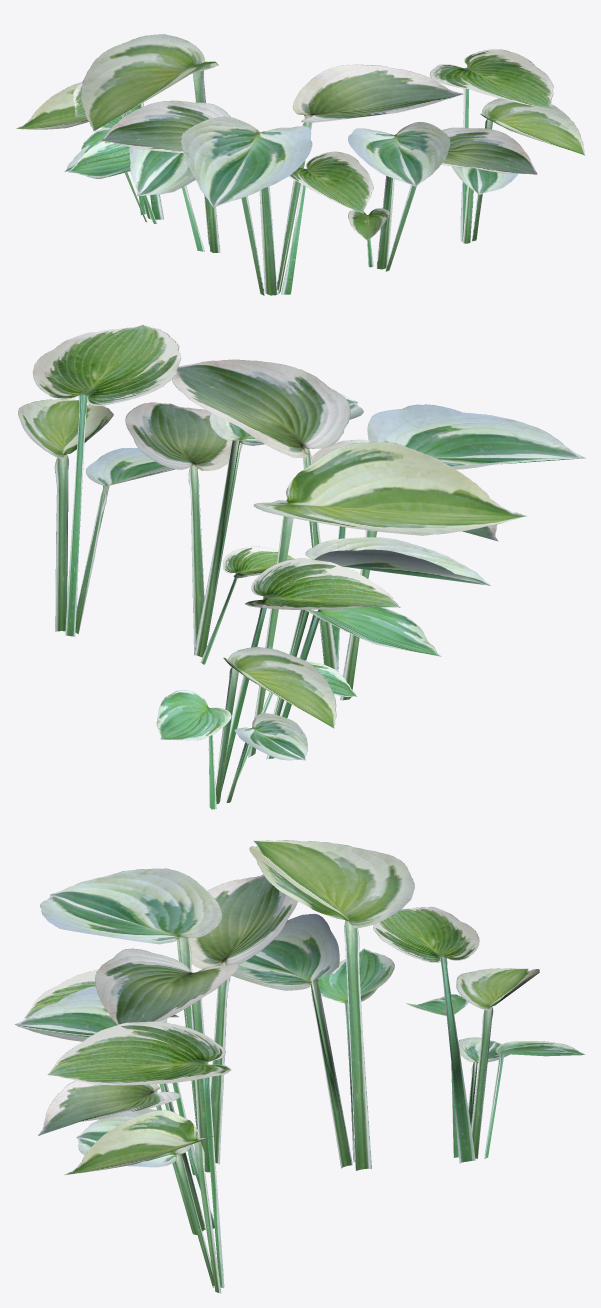
The model's file is plant_small_wg_00_o-corner03.fbx.
3 renders of one model, top to bottom at view 1: azimuth 30°, elevation 25°; view 2: azimuth 150°, elevation 25°; view 3: azimuth 270°, elevation 25°, orthographic. The views are drawn at different scales.
Parts seen in each view (by area): view 1: plant_small_wg_00_o-corner03; view 2: plant_small_wg_00_o-corner03; view 3: plant_small_wg_00_o-corner03.
Part boxes in pixels (box(x1,y1,x2,y2)): plant_small_wg_00_o-corner03: box(16, 34, 585, 295); plant_small_wg_00_o-corner03: box(18, 325, 585, 809); plant_small_wg_00_o-corner03: box(15, 840, 585, 1293).
Size of the model in its own units: 82.24 by 40.09 by 75.77.
Materials: 1 (1 with a texture image).
